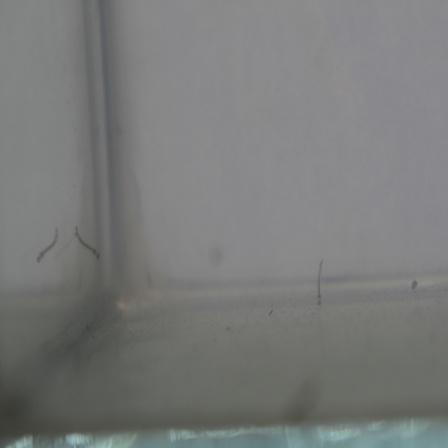Jentik-Nyamuk: (71, 226, 105, 260), (313, 254, 329, 305)
